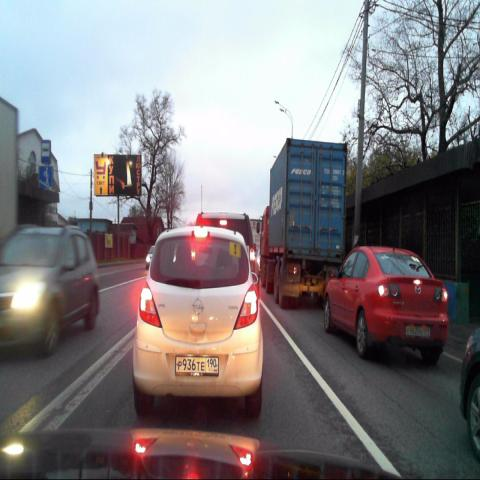6_6: (39, 166, 53, 189)
